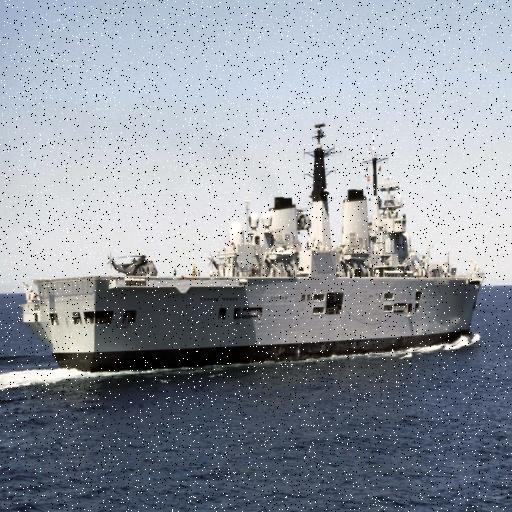Portanaves: (23, 113, 490, 378)
